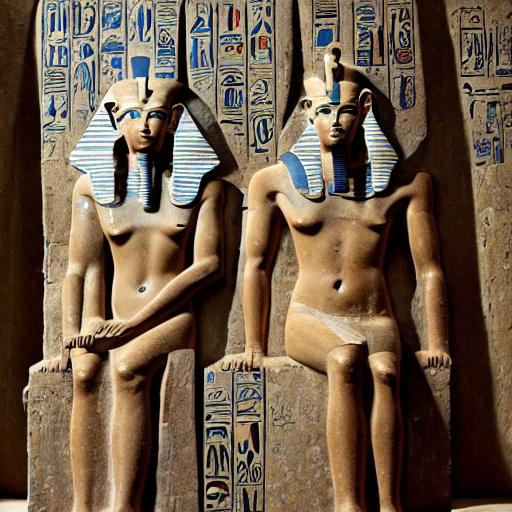Statue of Amun and King: (59, 61, 446, 502)
